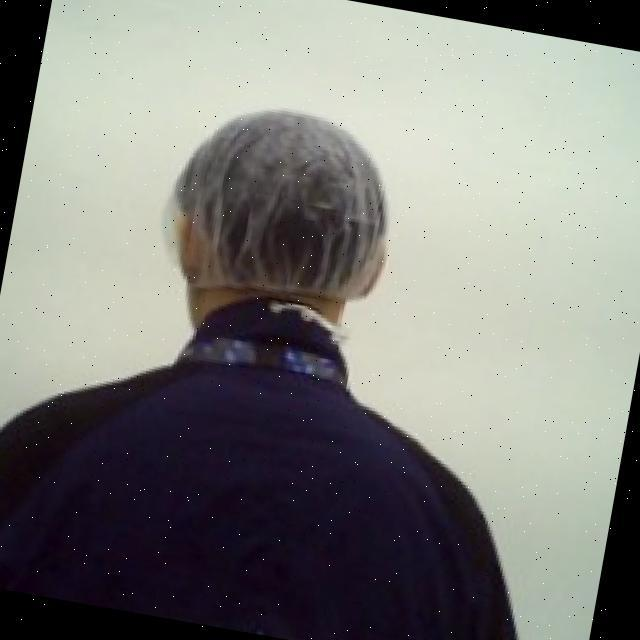gloves: (146, 78, 420, 326)
